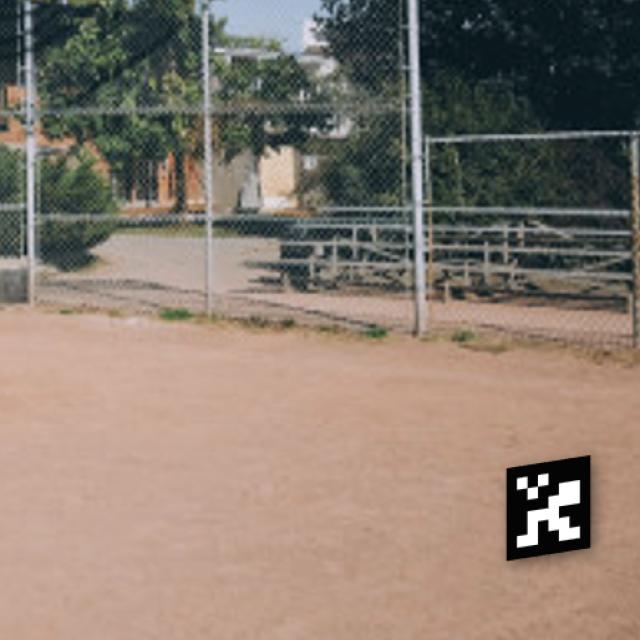marker: (495, 445, 601, 570)
